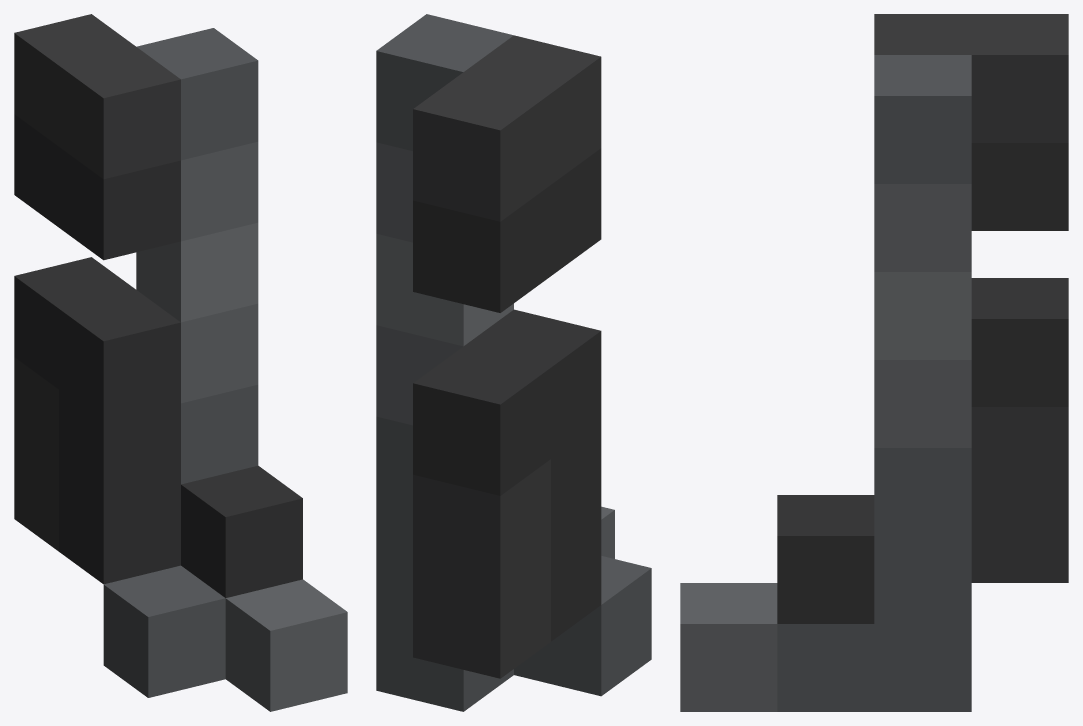
The model's file is puppetneonLegRight.obj.
3 views of the same model, side by side, from view 1: azimuth 30°, elevation 25°; view 2: azimuth 150°, elevation 25°; view 3: azimuth 270°, elevation 25° (orthographic). The views are drawn at different scales.
Visible parts, largest first — view 1: puppetneonLegRight; view 2: puppetneonLegRight; view 3: puppetneonLegRight.
Part boxes in pixels (x1,y1,x2,y2): puppetneonLegRight: [14, 14, 347, 711]; puppetneonLegRight: [376, 14, 651, 711]; puppetneonLegRight: [680, 14, 1068, 711].
Bounding box in the file's own units: 2 × 7 × 4.
1 material, 1 textured.
